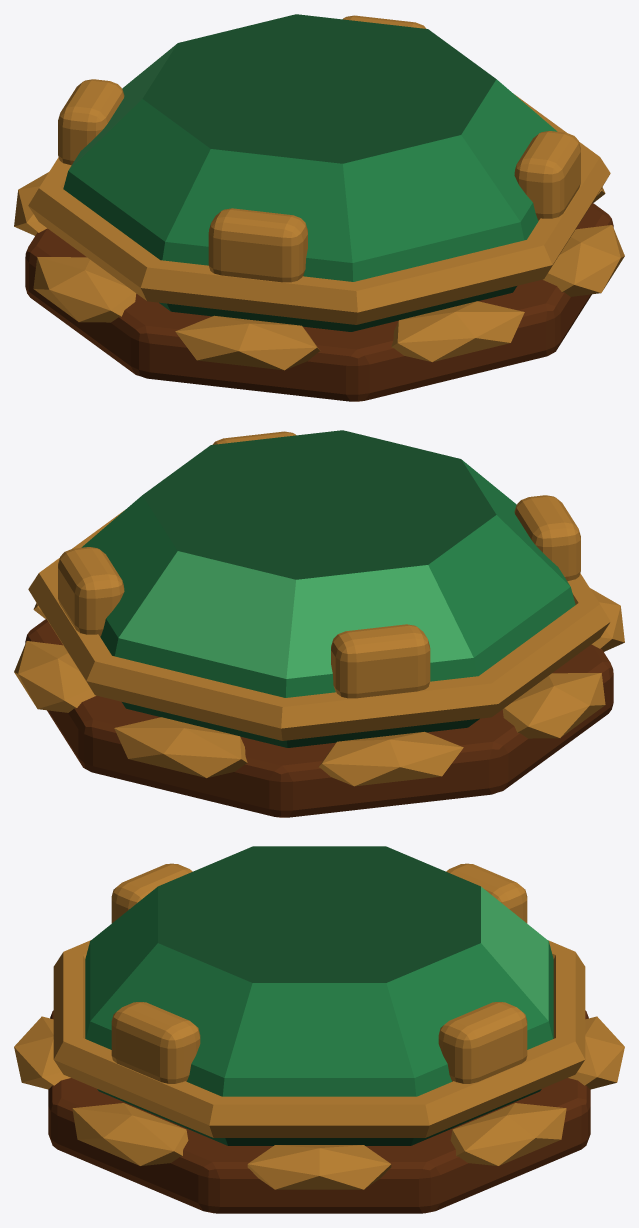
Rendered from baoshi.glb.
3 views of the same model, one above another, from view 1: azimuth 30°, elevation 25°; view 2: azimuth 150°, elevation 25°; view 3: azimuth 270°, elevation 25° (orthographic). The views are drawn at different scales.
Parts seen in each view (by area): view 1: octagonal-cut-jade, raised-gold-bezel, octagonal-setting-base, lotus-setting-panels, protective-prong-system; view 2: octagonal-cut-jade, raised-gold-bezel, octagonal-setting-base, lotus-setting-panels, protective-prong-system; view 3: octagonal-cut-jade, raised-gold-bezel, octagonal-setting-base, lotus-setting-panels, protective-prong-system.
Part boxes in pixels (left/top/right/bottom): octagonal-cut-jade: left=63, top=14, right=557, bottom=331; raised-gold-bezel: left=28, top=94, right=610, bottom=324; octagonal-setting-base: left=25, top=202, right=613, bottom=401; lotus-setting-panels: left=14, top=172, right=624, bottom=370; protective-prong-system: left=58, top=15, right=580, bottom=282; octagonal-cut-jade: left=81, top=430, right=575, bottom=747; raised-gold-bezel: left=28, top=510, right=610, bottom=740; octagonal-setting-base: left=25, top=618, right=613, bottom=817; lotus-setting-panels: left=14, top=588, right=624, bottom=786; protective-prong-system: left=58, top=431, right=580, bottom=698; octagonal-cut-jade: left=85, top=846, right=553, bottom=1145; raised-gold-bezel: left=53, top=940, right=585, bottom=1137; octagonal-setting-base: left=48, top=1010, right=590, bottom=1213; lotus-setting-panels: left=14, top=1016, right=624, bottom=1189; protective-prong-system: left=111, top=863, right=527, bottom=1083.
Size of the model in its own units: 1 by 0.4247 by 1.
